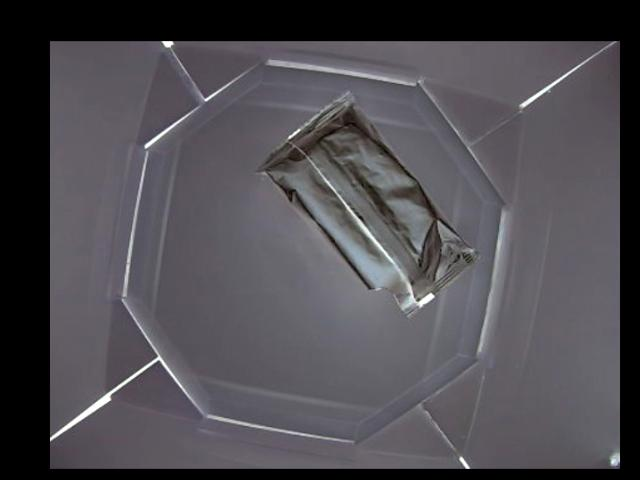Medicine: (259, 92, 475, 319)
